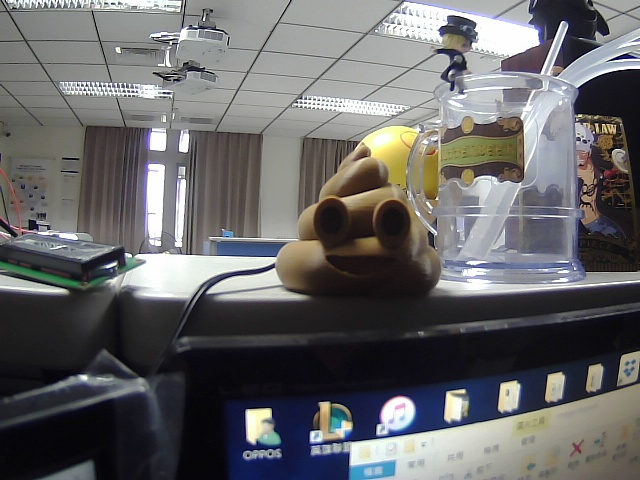shit: (280, 139, 450, 300)
